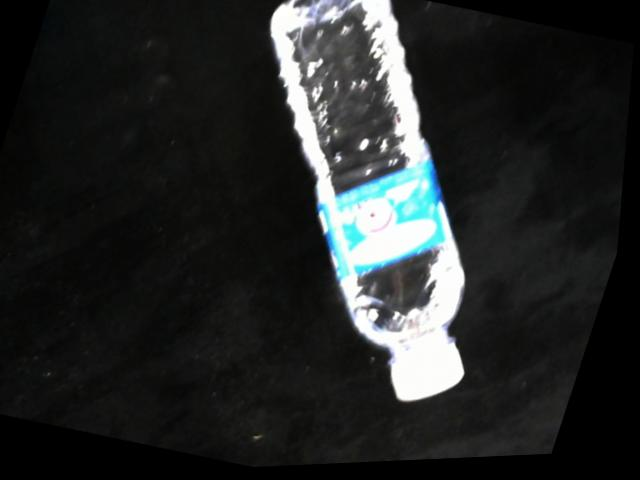bottle: (268, 0, 474, 410)
